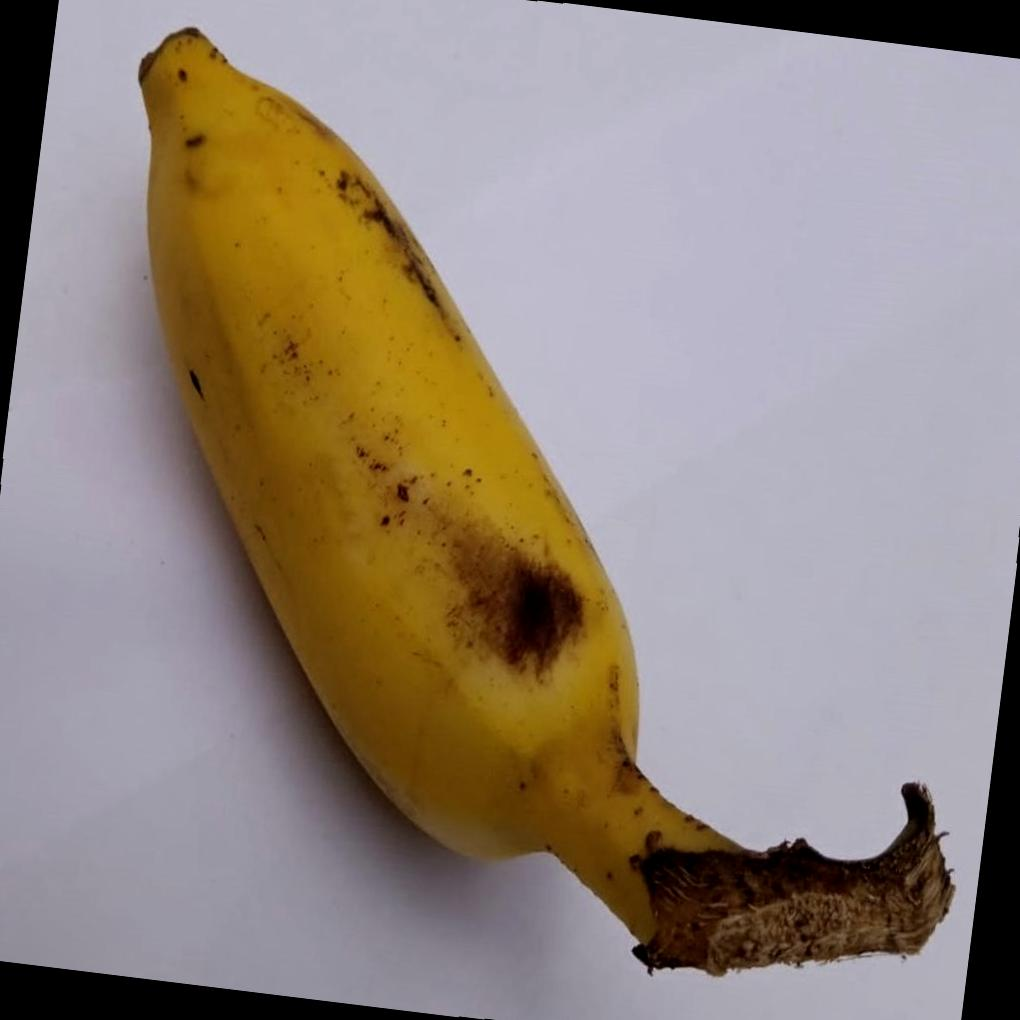Banana Ripe: (18, 8, 1020, 1020)
